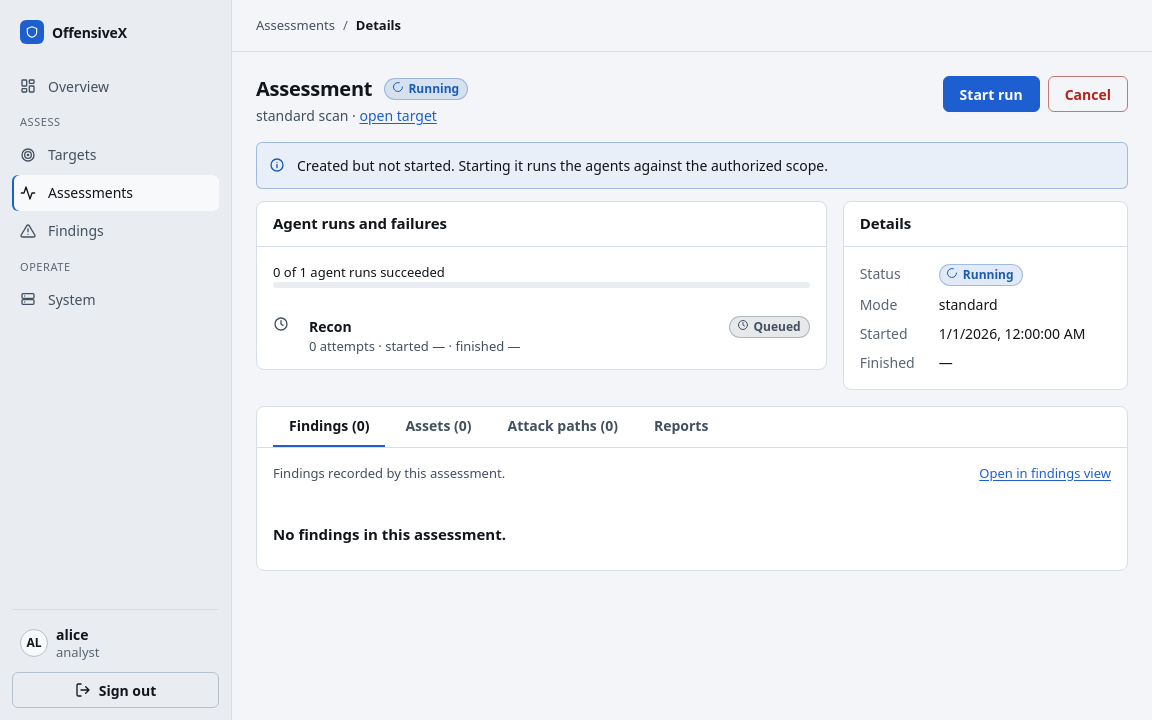
Test: assessments › lets the user back out of a dialog with Escape without sending anything
Click the button "Cancel" at (1088, 94), box [1048, 76, 1128, 112]
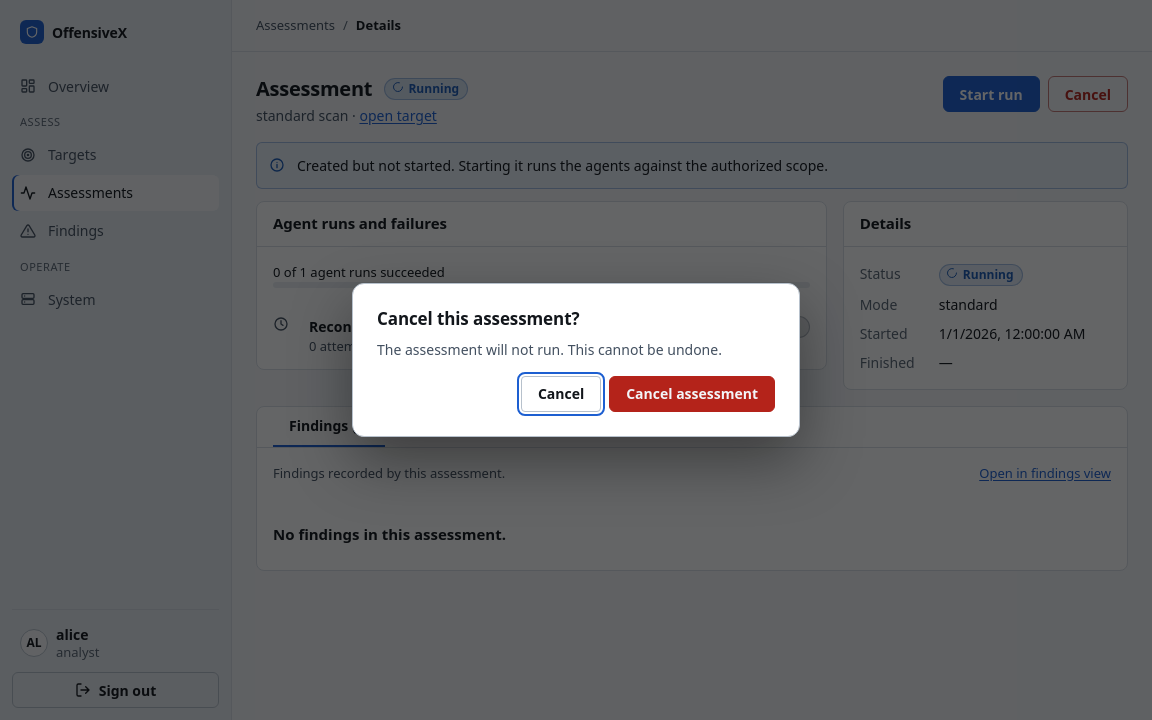
Expected: the dialog "Cancel this assessment?" is shown, [352, 284, 800, 437]
Press Escape
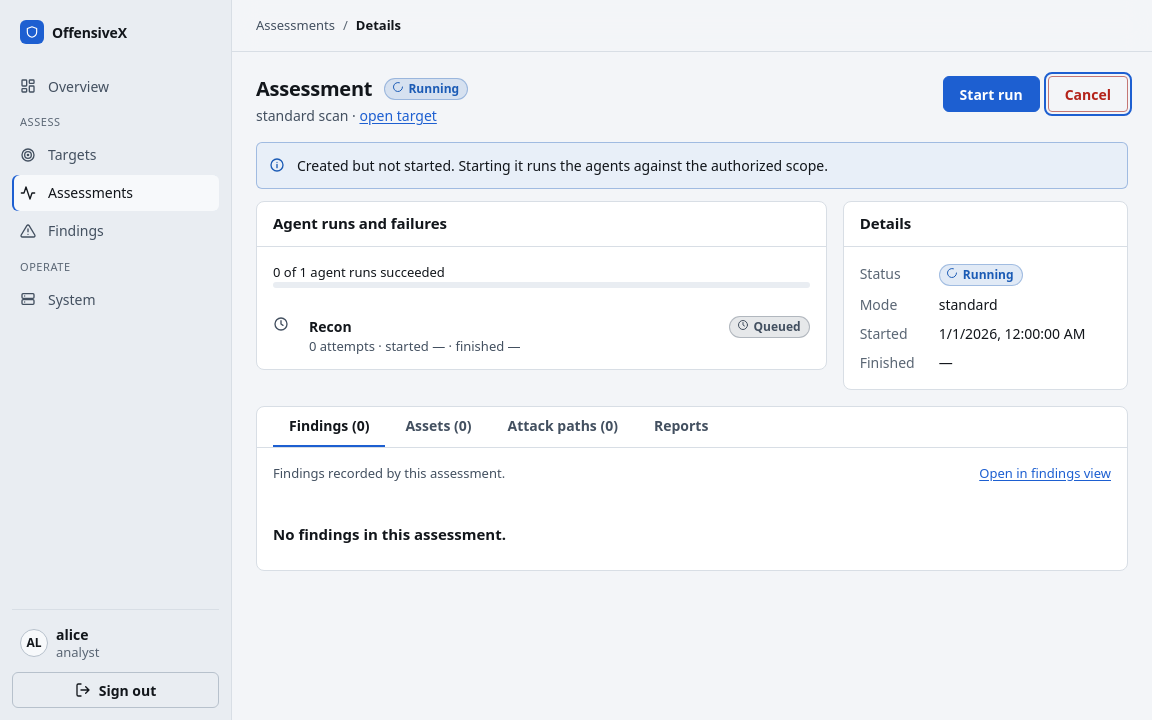
Expected: the dialog is gone
